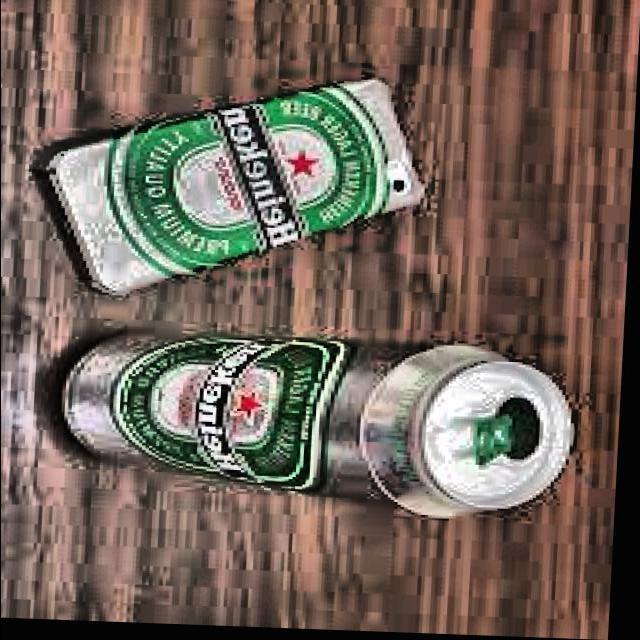Aluminum Can: (32, 318, 586, 530)
